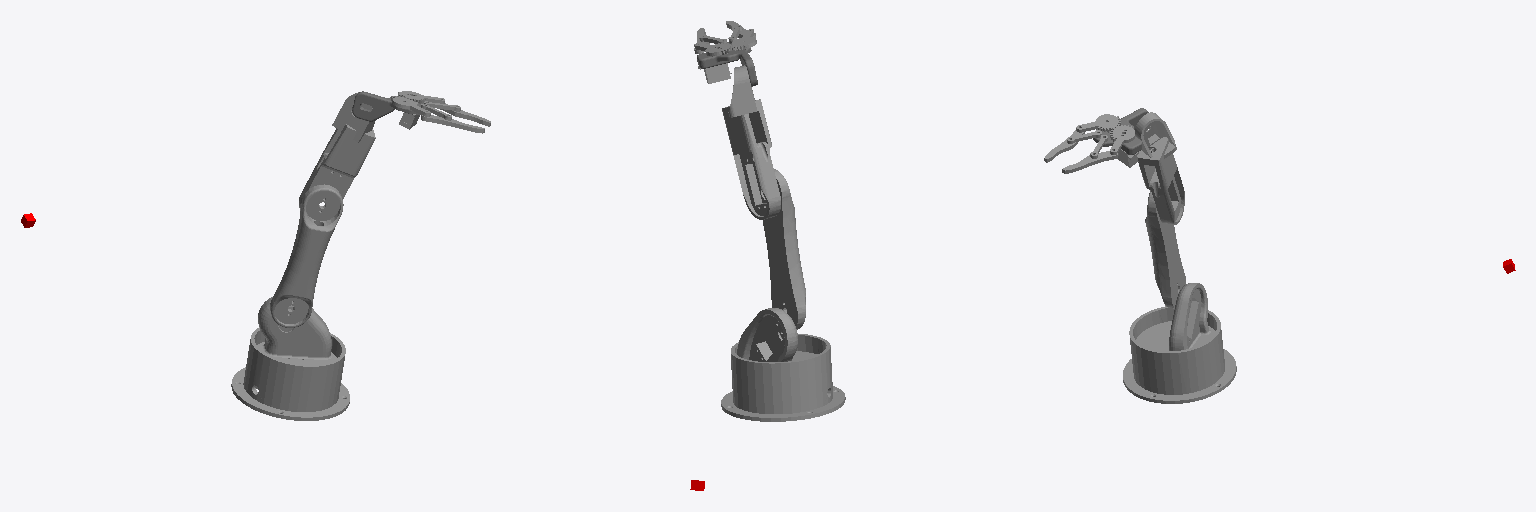
robot.urdf — manipulator:
<?xml version="1.0" encoding="utf-8"?>
<!-- This URDF was automatically created by SolidWorks to URDF Exporter! Originally created by [author] ([email redacted]) 
     Commit Version: 1.6.0-4-g7f85cfe  Build Version: 1.6.7995.38578
     For more information, please see http://wiki.ros.org/sw_urdf_exporter -->
<robot
  name="manipulator">
  <link name="world">
    <visual>
        <origin xyz="-0.014790 0.274300 0.079552" rpy="-0.125191 0.448281 -1.594174" />
        <geometry>
            <box size="0.01 0.01 0.01" /> <!-- Use a small box for visualization -->
        </geometry>
        <material name="">
            <color rgba="1 0 0 1" /> <!-- Red color for visibility -->
        </material>
    </visual>
</link>

<!-- Add a Joint to Connect the Dummy Link to the Base Link -->
<joint name="joint_world_base_link" type="fixed">
    <origin xyz="0 0 0.1" rpy="0.52 0.3 0" /> <!-- Adjust this position as necessary -->
    <parent link="world" />
    <child link="base_link" />
</joint>
  <link
    name="base_link">
    <inertial>
      <origin
        xyz="0.110164377946591 -0.0894344248139039 -0.000559782561365217"
        rpy="0 0 0" />
      <mass
        value="0.0945948697764257" />
      <inertia
        ixx="0.000133072632825275"
        ixy="-8.08880087726543E-06"
        ixz="-1.55265839554671E-05"
        iyy="0.000145570115020265"
        iyz="2.47640864412752E-05"
        izz="0.000190687293495923" />
    </inertial>
    <visual>
      <origin
        xyz="0 0 0"
        rpy="0 0 0" />
      <geometry>
        <mesh
          filename="package://manipulator/meshes/base_link.STL" />
      </geometry>
      <material
        name="">
        <color
          rgba="0.627450980392157 0.627450980392157 0.627450980392157 1" />
      </material>
    </visual>
    <collision>
      <origin
        xyz="0 0 0"
        rpy="0 0 0" />
      <geometry>
        <mesh
          filename="package://manipulator/meshes/base_link.STL" />
      </geometry>
    </collision>
  </link>
  <link
    name="link_waist">
    <inertial>
      <origin
        xyz="0.00749460466607962 0.0193833742805122 -0.00142908295604847"
        rpy="0 0 0" />
      <mass
        value="0.073648017160832" />
      <inertia
        ixx="6.79533649959477E-05"
        ixy="-6.43007186079431E-06"
        ixz="2.54253113515054E-07"
        iyy="6.01331618037357E-05"
        iyz="6.73058268215776E-06"
        izz="5.02824951550106E-05" />
    </inertial>
    <visual>
      <origin
        xyz="0 0 0"
        rpy="0 0 0" />
      <geometry>
        <mesh
          filename="package://manipulator/meshes/link_waist.STL" />
      </geometry>
      <material
        name="">
        <color
          rgba="0.627450980392157 0.627450980392157 0.627450980392157 1" />
      </material>
    </visual>
    <collision>
      <origin
        xyz="0 0 0"
        rpy="0 0 0" />
      <geometry>
        <mesh
          filename="package://manipulator/meshes/link_waist.STL" />
      </geometry>
    </collision>
  </link>
  <joint
    name="joint_base_waist"
    type="continuous">
    <origin
      xyz="0.104619716257001 -0.0747184271679116 0.0311676085902517"
      rpy="1.24263440323189 0.336564980145166 1.19877807114456" />
    <parent
      link="base_link" />
    <child
      link="link_waist" />
    <axis
      xyz="0 1 0" />
    <limit
      lower="0"
      upper="0"
      effort="338"
      velocity="10" />
        
  </joint>
  <link
    name="link_arm01">
    <inertial>
      <origin
        xyz="7.28828564999784E-08 0.0599999721913967 0.0132291412086"
        rpy="0 0 0" />
      <mass
        value="0.064057051230774" />
      <inertia
        ixx="0.000103753554172636"
        ixy="2.72460845131853E-10"
        ixz="1.08923157262337E-10"
        iyy="9.2284882991871E-06"
        iyz="-7.47048066025201E-11"
        izz="0.000108623418422058" />
    </inertial>
    <visual>
      <origin
        xyz="0 0 0"
        rpy="0 0 0" />
      <geometry>
        <mesh
          filename="package://manipulator/meshes/link_arm01.STL" />
      </geometry>
      <material
        name="">
        <color
          rgba="0.627450980392157 0.627450980392157 0.627450980392157 1" />
      </material>
    </visual>
    <collision>
      <origin
        xyz="0 0 0"
        rpy="0 0 0" />
      <geometry>
        <mesh
          filename="package://manipulator/meshes/link_arm01.STL" />
      </geometry>
    </collision>
  </link>
  <joint
    name="joint_waist_arm01"
    type="revolute">
    <origin
      xyz="-0.0182 0.0402799999999999 -0.0139099999999999"
      rpy="1.57079632679491 1.44053245288332 1.57079632679491" />
    <parent
      link="link_waist" />
    <child
      link="link_arm01" />
    <axis
      xyz="0 0 1" />
    <limit
      lower="-1.4"
      upper="1.4"
      effort="338"
      velocity="10" />
    <!-- <dynamics damping="0.2" friction="0.6"/> -->
  </joint>
  <link
    name="link_arm02">
    <inertial>
      <origin
        xyz="-0.000507747225750504 0.0417075716278682 -0.0129199551350853"
        rpy="0 0 0" />
      <mass
        value="0.0470979731232057" />
      <inertia
        ixx="5.13940350110077E-05"
        ixy="5.56792946865546E-07"
        ixz="4.79475725568015E-09"
        iyy="8.72979889935788E-06"
        iyz="-4.03667116053884E-07"
        izz="5.46647133889416E-05" />
    </inertial>
    <visual>
      <origin
        xyz="0 0 0"
        rpy="0 0 0" />
      <geometry>
        <mesh
          filename="package://manipulator/meshes/link_arm02.STL" />
      </geometry>
      <material
        name="">
        <color
          rgba="0.627450980392157 0.627450980392157 0.627450980392157 1" />
      </material>
    </visual>
    <collision>
      <origin
        xyz="0 0 0"
        rpy="0 0 0" />
      <geometry>
        <mesh
          filename="package://manipulator/meshes/link_arm02.STL" />
      </geometry>
    </collision>
  </link>
  <joint
    name="joint_arm01_arm02"
    type="revolute">
    <origin
      xyz="0 0.12 0.015"
      rpy="3.14159265358979 0 -2.94369460393837" />
    <parent
      link="link_arm01" />
    <child
      link="link_arm02" />
    <axis
      xyz="0 0 -1" />
    <limit
      lower="-1.4"
      upper="1.4"
      effort="338"
      velocity="10" />
  </joint>
  <link
    name="link_arm03">
    <inertial>
      <origin
        xyz="4.59621324966769E-05 0.0178079248857709 -0.00527093987895778"
        rpy="0 0 0" />
      <mass
        value="0.0164703704574985" />
      <inertia
        ixx="3.8998112272154E-06"
        ixy="1.15515572844753E-08"
        ixz="-3.9843285770846E-09"
        iyy="2.60896890580714E-06"
        iyz="5.77154659865444E-07"
        izz="5.00777358212754E-06" />
    </inertial>
    <visual>
      <origin
        xyz="0 0 0"
        rpy="0 0 0" />
      <geometry>
        <mesh
          filename="package://manipulator/meshes/link_arm03.STL" />
      </geometry>
      <material
        name="">
        <color
          rgba="0.627450980392157 0.627450980392157 0.627450980392157 1" />
      </material>
    </visual>
    <collision>
      <origin
        xyz="0 0 0"
        rpy="0 0 0" />
      <geometry>
        <mesh
          filename="package://manipulator/meshes/link_arm03.STL" />
      </geometry>
    </collision>
  </link>
  <joint
    name="joint_arm02_arm03"
    type="continuous">
    <origin
      xyz="-0.0001165850778517 0.090954594899946 -0.0151145368982072"
      rpy="3.14159265358979 0.503971856291605 -3.13017769589601" />
    <parent
      link="link_arm02" />
    <child
      link="link_arm03" />
    <axis
      xyz="0 -1 0" />
    <limit
      lower="-1.4"
      upper="1.4"
      effort="338"
      velocity="10" />
  </joint>
  <link
    name="link_wrist">
    <inertial>
      <origin
        xyz="0.0241387897424202 -0.00895517640972743 0.00515759512288279"
        rpy="0 0 0" />
      <mass
        value="0.0160406157199611" />
      <inertia
        ixx="3.6333607086399E-06"
        ixy="1.89318060885119E-06"
        ixz="-1.73518802637373E-06"
        iyy="8.67578848292488E-06"
        iyz="5.85402145999365E-07"
        izz="7.25768021095932E-06" />
    </inertial>
    <visual>
      <origin
        xyz="0 0 0"
        rpy="0 0 0" />
      <geometry>
        <mesh
          filename="package://manipulator/meshes/link_wrist.STL" />
      </geometry>
      <material
        name="">
        <color
          rgba="0.498039215686275 0.498039215686275 0.498039215686275 1" />
      </material>
    </visual>
    <collision>
      <origin
        xyz="0 0 0"
        rpy="0 0 0" />
      <geometry>
        <mesh
          filename="package://manipulator/meshes/link_wrist.STL" />
      </geometry>
    </collision>
  </link>
  <joint
    name="joint_arm03_wrist"
    type="revolute">
    <origin
      xyz="0 0.028 -0.0155"
      rpy="0 0 2.97515466965945" />
    <parent
      link="link_arm03" />
    <child
      link="link_wrist" />
    <axis
      xyz="0 0 -1" />
    <limit
      lower="-1.4"
      upper="1.4"
      effort="338"
      velocity="10" />
  </joint>
  <link
    name="link_servo">
    <inertial>
      <origin
        xyz="-0.000421588407400978 2.77555756156289E-17 0.0125976635534302"
        rpy="0 0 0" />
      <mass
        value="0.00717741212346476" />
      <inertia
        ixx="4.65659768608823E-07"
        ixy="3.4410713482206E-22"
        ixz="3.64468103975E-08"
        iyy="7.15747199073412E-07"
        iyz="-4.2351647362715E-22"
        izz="4.29370258276757E-07" />
    </inertial>
    <visual>
      <origin
        xyz="0 0 0"
        rpy="0 0 0" />
      <geometry>
        <mesh
          filename="package://manipulator/meshes/link_servo.STL" />
      </geometry>
      <material
        name="">
        <color
          rgba="0.627450980392157 0.627450980392157 0.627450980392157 1" />
      </material>
    </visual>
    <collision>
      <origin
        xyz="0 0 0"
        rpy="0 0 0" />
      <geometry>
        <mesh
          filename="package://manipulator/meshes/link_servo.STL" />
      </geometry>
    </collision>
  </link>
  <joint
    name="joint_wrist_servo_fixed"
    type="fixed">
    <origin
      xyz="0.0393088925164345 0.010787653550768 0.024"
      rpy="1.67321358298702 -1.5707963267949 0" />
    <parent
      link="link_wrist" />
    <child
      link="link_servo" />
    <axis
      xyz="0 0 0" />
  </joint>
  <link
    name="link_motor_gear">
    <inertial>
      <origin
        xyz="0.00498745739687451 0.00250589540319929 -1.66533453693773E-16"
        rpy="0 0 0" />
      <mass
        value="0.0025818082333029" />
      <inertia
        ixx="1.19303857754038E-07"
        ixy="-8.58700040667533E-08"
        ixz="4.32615460365233E-22"
        iyy="3.39399576504453E-07"
        iyz="2.11758236813575E-22"
        izz="4.51818612303017E-07" />
    </inertial>
    <visual>
      <origin
        xyz="0 0 0"
        rpy="0 0 0" />
      <geometry>
        <mesh
          filename="package://manipulator/meshes/link_motor_gear.STL" />
      </geometry>
      <material
        name="">
        <color
          rgba="0.627450980392157 0.627450980392157 0.627450980392157 1" />
      </material>
    </visual>
    <collision>
      <origin
        xyz="0 0 0"
        rpy="0 0 0" />
      <geometry>
        <mesh
          filename="package://manipulator/meshes/link_motor_gear.STL" />
      </geometry>
    </collision>
  </link>
  <joint
    name="joint_wrist_motor_gear"
    type="revolute">
    <origin
      xyz="0.0361395051353438 -0.0200499044528838 0.0189000000000357"
      rpy="-1.5707963267949 -0.852106499830379 -0.102417256192125" />
    <parent
      link="link_wrist" />
    <child
      link="link_motor_gear" />
    <axis
      xyz="0 0 -1" />
    <limit
      lower="-0.09"
      upper="0.0275"
      effort="338"
      velocity="10" />
  </joint>
  <link
    name="link_motor_finger">
    <inertial>
      <origin
        xyz="0.0110070406755422 -0.0232758678124116 -0.00250000291050845"
        rpy="0 0 0" />
      <mass
        value="0.00255464599773235" />
      <inertia
        ixx="6.02661453666928E-07"
        ixy="3.29142587048583E-07"
        ixz="-8.31957162243927E-14"
        iyy="2.16421662192353E-07"
        iyz="1.97906599030425E-13"
        izz="8.10461051433769E-07" />
    </inertial>
    <visual>
      <origin
        xyz="0 0 0"
        rpy="0 0 0" />
      <geometry>
        <mesh
          filename="package://manipulator/meshes/link_motor_finger.STL" />
      </geometry>
      <material
        name="">
        <color
          rgba="0.627450980392157 0.627450980392157 0.627450980392157 1" />
      </material>
    </visual>
    <collision>
      <origin
        xyz="0 0 0"
        rpy="0 0 0" />
      <geometry>
        <mesh
          filename="package://manipulator/meshes/link_motor_finger.STL" />
      </geometry>
    </collision>
  </link>
  <joint
    name="joint_motor_gear_finger"
    type="continuous">
    <origin
      xyz="0.028766 0.010867 0.002"
      rpy="3.1416 0 0" />
    <parent
      link="link_motor_gear" />
    <child
      link="link_motor_finger" />
    <axis
      xyz="0 0 -1" />
    <limit
      lower="-1.4"
      upper="1.4"
      effort="0"
      velocity="10" />
	<mimic joint="joint_wrist_motor_gear" multiplier="-0.8"/>
  </joint>
  <link
    name="link_non_motor_gear">
    <inertial>
      <origin
        xyz="0.00492502906299691 0.00226580338795912 -5.55111512312578E-17"
        rpy="0 0 0" />
      <mass
        value="0.00265818035071168" />
      <inertia
        ixx="1.14346304850681E-07"
        ixy="-7.92381705356815E-08"
        ixz="8.33798057453452E-22"
        iyy="3.47917271488674E-07"
        iyz="1.43102245971674E-22"
        izz="4.55175095404124E-07" />
    </inertial>
    <visual>
      <origin
        xyz="0 0 0"
        rpy="0 0 0" />
      <geometry>
        <mesh
          filename="package://manipulator/meshes/link_non_motor_gear.STL" />
      </geometry>
      <material
        name="">
        <color
          rgba="0.627450980392157 0.627450980392157 0.627450980392157 1" />
      </material>
    </visual>
    <collision>
      <origin
        xyz="0 0 0"
        rpy="0 0 0" />
      <geometry>
        <mesh
          filename="package://manipulator/meshes/link_non_motor_gear.STL" />
      </geometry>
    </collision>
  </link>
  <joint
    name="joint_wrist_non_motor_gear"
    type="revolute">
    <origin
      xyz="0.0361395051353807 -0.0200499044528875 -0.00800000000000281"
      rpy="1.5707963267949 0.696091483245096 -0.102417256192129" />
    <parent
      link="link_wrist" />
    <child
      link="link_non_motor_gear" />
    <axis
      xyz="0 0 1" />
    <limit
      lower="-1.4"
      upper="1.4"
      effort="0"
      velocity="10" />
<mimic joint="joint_wrist_motor_gear" multiplier="-1.0"/>
  </joint>
  <link
    name="link_non_motor_finger">
    <inertial>
      <origin
        xyz="0.0212959212969732 0.0144708261452938 0.00649999825189373"
        rpy="0 0 0" />
      <mass
        value="0.00255464579636163" />
      <inertia
        ixx="3.26118952390743E-07"
        ixy="-3.72385346632874E-07"
        ixz="-2.22677707980307E-13"
        iyy="4.92964020378245E-07"
        iyz="-1.13606576757357E-13"
        izz="8.10460908906223E-07" />
    </inertial>
    <visual>
      <origin
        xyz="0 0 0"
        rpy="0 0 0" />
      <geometry>
        <mesh
          filename="package://manipulator/meshes/link_non_motor_finger.STL" />
      </geometry>
      <material
        name="">
        <color
          rgba="0.627450980392157 0.627450980392157 0.627450980392157 1" />
      </material>
    </visual>
    <collision>
      <origin
        xyz="0 0 0"
        rpy="0 0 0" />
      <geometry>
        <mesh
          filename="package://manipulator/meshes/link_non_motor_finger.STL" />
      </geometry>
    </collision>
  </link>
  <joint
    name="joint_non_motor_gear_finger"
    type="revolute">
    <origin
      xyz="0.029123 0.0098705 0.002"
      rpy="-3.1416 0 1.5482" />
    <parent
      link="link_non_motor_gear" />
    <child
      link="link_non_motor_finger" />
    <axis
      xyz="0 0 -1" />
    <limit
      lower="-1.4"
      upper="1.4"
      effort="0"
      velocity="10" />
<mimic joint="joint_wrist_motor_gear" multiplier="-0.8"/>
  </joint>
  <link
    name="link_motor_support">
    <inertial>
      <origin
        xyz="0.0146933813542968 0.002 0.0049350323582818"
        rpy="0 0 0" />
      <mass
        value="0.000798762413184692" />
      <inertia
        ixx="1.36976216135713E-08"
        ixy="7.70828933322853E-23"
        ixz="-2.99675052665061E-08"
        iyy="1.04424225659604E-07"
        iyz="2.31610571514848E-23"
        izz="9.28566371478583E-08" />
    </inertial>
    <visual>
      <origin
        xyz="0 0 0"
        rpy="0 0 0" />
      <geometry>
        <mesh
          filename="package://manipulator/meshes/link_motor_support.STL" />
      </geometry>
      <material
        name="">
        <color
          rgba="0.627450980392157 0.627450980392157 0.627450980392157 1" />
      </material>
    </visual>
    <collision>
      <origin
        xyz="0 0 0"
        rpy="0 0 0" />
      <geometry>
        <mesh
          filename="package://manipulator/meshes/link_motor_support.STL" />
      </geometry>
    </collision>
  </link>
  <joint
    name="joint_wrist_motor_support"
    type="revolute">
    <origin
      xyz="0.0562391804526159 -0.0201051506339748 0.0100000000000436"
      rpy="-3.14159265358979 -0.81681166488745 -0.102417256192128" />
    <parent
      link="link_wrist" />
    <child
      link="link_motor_support" />
    <axis
      xyz="0 1 0" />
    <limit
      lower="-1.4"
      upper="1.4"
      effort="0"
      velocity="10" />
<mimic joint="joint_wrist_motor_gear" multiplier="1.2"/>
  </joint>
  <link
    name="link_non_motor_support">
    <inertial>
      <origin
        xyz="0.00549698307306112 0.0144925214194936 0.00199999999999989"
        rpy="0 0 0" />
      <mass
        value="0.000798762413184692" />
      <inertia
        ixx="9.04339056588605E-08"
        ixy="-3.29235900776828E-08"
        ixz="3.82571033305775E-24"
        iyy="1.61203531025693E-08"
        iyz="2.8951321439356E-23"
        izz="1.04424225659604E-07" />
    </inertial>
    <visual>
      <origin
        xyz="0 0 0"
        rpy="0 0 0" />
      <geometry>
        <mesh
          filename="package://manipulator/meshes/link_non_motor_support.STL" />
      </geometry>
      <material
        name="">
        <color
          rgba="0.627450980392157 0.627450980392157 0.627450980392157 1" />
      </material>
    </visual>
    <collision>
      <origin
        xyz="0 0 0"
        rpy="0 0 0" />
      <geometry>
        <mesh
          filename="package://manipulator/meshes/link_non_motor_support.STL" />
      </geometry>
    </collision>
  </link>
  <joint
    name="joint_wrist_non_motor_support"
    type="revolute">
    <origin
      xyz="0.0558302272421884 -0.0240841903763851 0"
      rpy="-1.5707963267949 -0.852106499830378 -0.102417256192126" />
    <parent
      link="link_wrist" />
    <child
      link="link_non_motor_support" />
    <axis
      xyz="0 0 -1" />
    <limit
      lower="-1.4"
      upper="1.4"
      effort="0"
      velocity="10" />
<mimic joint="joint_wrist_motor_gear" multiplier="-1.2"/>
  </joint>


<!--Transmissions-->

<transmission name="trans_joint_base_waist">
  <type>transmission_interface/SimpleTransmission</type>
  <joint name="joint_base_waist">
    <hardwareInterface>PositionJointInterface</hardwareInterface>
  </joint>
  <actuator name="actuator_joint_base_waist">
    <hardwareInterface>PositionJointInterface</hardwareInterface>
  </actuator>
</transmission>

<transmission name="trans_joint_waist_arm01">
  <type>transmission_interface/SimpleTransmission</type>
  <joint name="joint_waist_arm01">
    <hardwareInterface>PositionJointInterface</hardwareInterface>
  </joint>
  <actuator name="actuator_joint_waist_arm01">
    <hardwareInterface>PositionJointInterface</hardwareInterface>
  </actuator>
</transmission>

<transmission name="trans_joint_arm01_arm02">
  <type>transmission_interface/SimpleTransmission</type>
  <joint name="joint_arm01_arm02">
    <hardwareInterface>PositionJointInterface</hardwareInterface>
  </joint>
  <actuator name="actuator_joint_arm01_arm02">
    <hardwareInterface>PositionJointInterface</hardwareInterface>
  </actuator>
</transmission>

<transmission name="trans_joint_arm02_arm03">
  <type>transmission_interface/SimpleTransmission</type>
  <joint name="joint_arm02_arm03">
    <hardwareInterface>PositionJointInterface</hardwareInterface>
  </joint>
  <actuator name="actuator_joint_arm02_arm03">
    <hardwareInterface>PositionJointInterface</hardwareInterface>
  </actuator>
</transmission>

<transmission name="trans_joint_arm03_wrist">
  <type>transmission_interface/SimpleTransmission</type>
  <joint name="joint_arm03_wrist">
    <hardwareInterface>PositionJointInterface</hardwareInterface>
  </joint>
  <actuator name="actuator_joint_arm03_wrist">
    <hardwareInterface>PositionJointInterface</hardwareInterface>
  </actuator>
</transmission>

<transmission name="trans_joint_wrist_motor_gear">
  <type>transmission_interface/SimpleTransmission</type>
  <joint name="joint_wrist_motor_gear">
    <hardwareInterface>PositionJointInterface</hardwareInterface>
  </joint>
  <actuator name="actuator_joint_wrist_motor_gear">
    <hardwareInterface>PositionJointInterface</hardwareInterface>
  </actuator>
</transmission>
<!--End of transmissions-->

<gazebo>
  <plugin name="control" filename="libgazebo_ros_control.so">
    <robotNamespace>/</robotNamespace>
  </plugin>
</gazebo>
<gazebo reference="base_link">
  <selfCollide>true</selfCollide>
</gazebo>

<gazebo reference="link_waist">
  <selfCollide>true</selfCollide>
</gazebo>

<gazebo reference="link_arm01">
  <selfCollide>true</selfCollide>
</gazebo>

<gazebo reference="link_arm02">
  <selfCollide>true</selfCollide>
</gazebo>

<gazebo reference="link_arm03">
  <selfCollide>true</selfCollide>
</gazebo>

<gazebo reference="link_wrist">
  <selfCollide>true</selfCollide>
</gazebo>

<gazebo reference="link_servo">
  <selfCollide>true</selfCollide>
</gazebo>

<gazebo reference="link_motor_gear">
  <selfCollide>true</selfCollide>
</gazebo>

<gazebo reference="link_motor_finger">
  <selfCollide>true</selfCollide>
</gazebo>

<gazebo reference="link_non_motor_gear">
  <selfCollide>true</selfCollide>
</gazebo>

<gazebo reference="link_non_motor_finger">
  <selfCollide>true</selfCollide>
</gazebo>

<gazebo reference="link_motor_support">
  <selfCollide>true</selfCollide>
</gazebo>

<gazebo reference="link_non_motor_support">
  <selfCollide>true</selfCollide>
</gazebo>



</robot>

--- Facts derived from the render (not from the file) ---
Views: 3 orthographic renders of the robot side by side, from view 1: azimuth 30°, elevation 25°; view 2: azimuth 150°, elevation 25°; view 3: azimuth 270°, elevation 25°.
Robot: manipulator — 14 links, 13 joints (8 revolute, 3 continuous, 2 fixed); root link world; default pose: every joint at zero.
Visible links, largest first — view 1: base_link, link_arm01, link_waist, link_arm02, link_wrist, link_arm03; view 2: base_link, link_arm02, link_arm01, link_waist, link_arm03, link_wrist; view 3: base_link, link_waist, link_arm02, link_arm01, link_arm03, link_wrist.
Boxes of the visible links, left/top/right/bottom form: base_link: left=231, top=325, right=349, bottom=420; link_arm01: left=270, top=184, right=343, bottom=327; link_waist: left=257, top=297, right=336, bottom=364; link_arm02: left=299, top=124, right=375, bottom=210; link_wrist: left=352, top=91, right=423, bottom=121; link_arm03: left=332, top=92, right=375, bottom=142; base_link: left=721, top=334, right=845, bottom=421; link_arm02: left=722, top=99, right=780, bottom=219; link_arm01: left=763, top=169, right=805, bottom=329; link_waist: left=737, top=308, right=817, bottom=361; link_arm03: left=728, top=65, right=756, bottom=117; link_wrist: left=697, top=42, right=757, bottom=86; base_link: left=1123, top=306, right=1236, bottom=403; link_waist: left=1136, top=283, right=1215, bottom=350; link_arm02: left=1137, top=137, right=1184, bottom=224; link_arm01: left=1145, top=190, right=1185, bottom=308; link_arm03: left=1135, top=112, right=1176, bottom=158; link_wrist: left=1093, top=108, right=1148, bottom=154.
Size in the robot's own frame: 0.276 by 0.5 by 0.3488 metres.
Meshes: 13 distinct files referenced, 13 mesh visuals loaded (13 binary STL).
